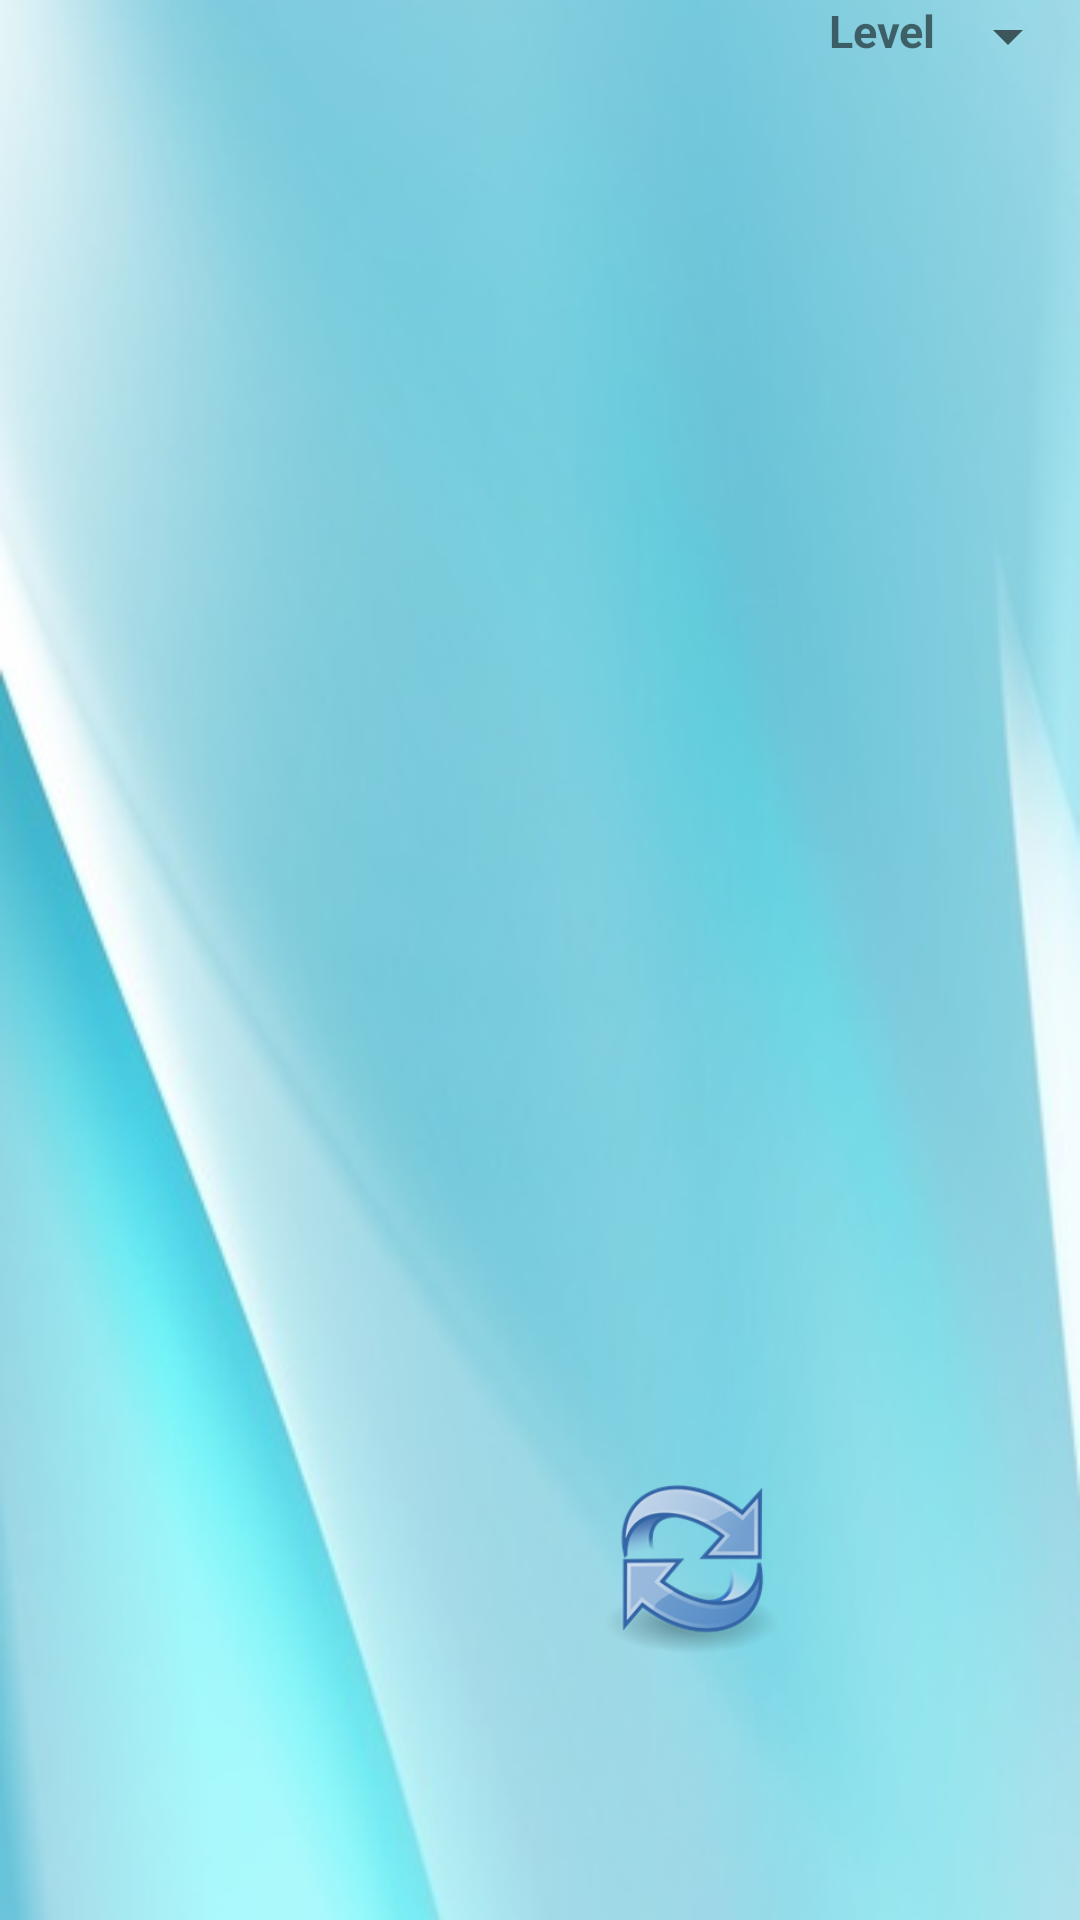

Screen size 1080px x 1920px. Icon name, then its center in pixels as (x=x, y=y):
refresh: (x=690, y=1566)
